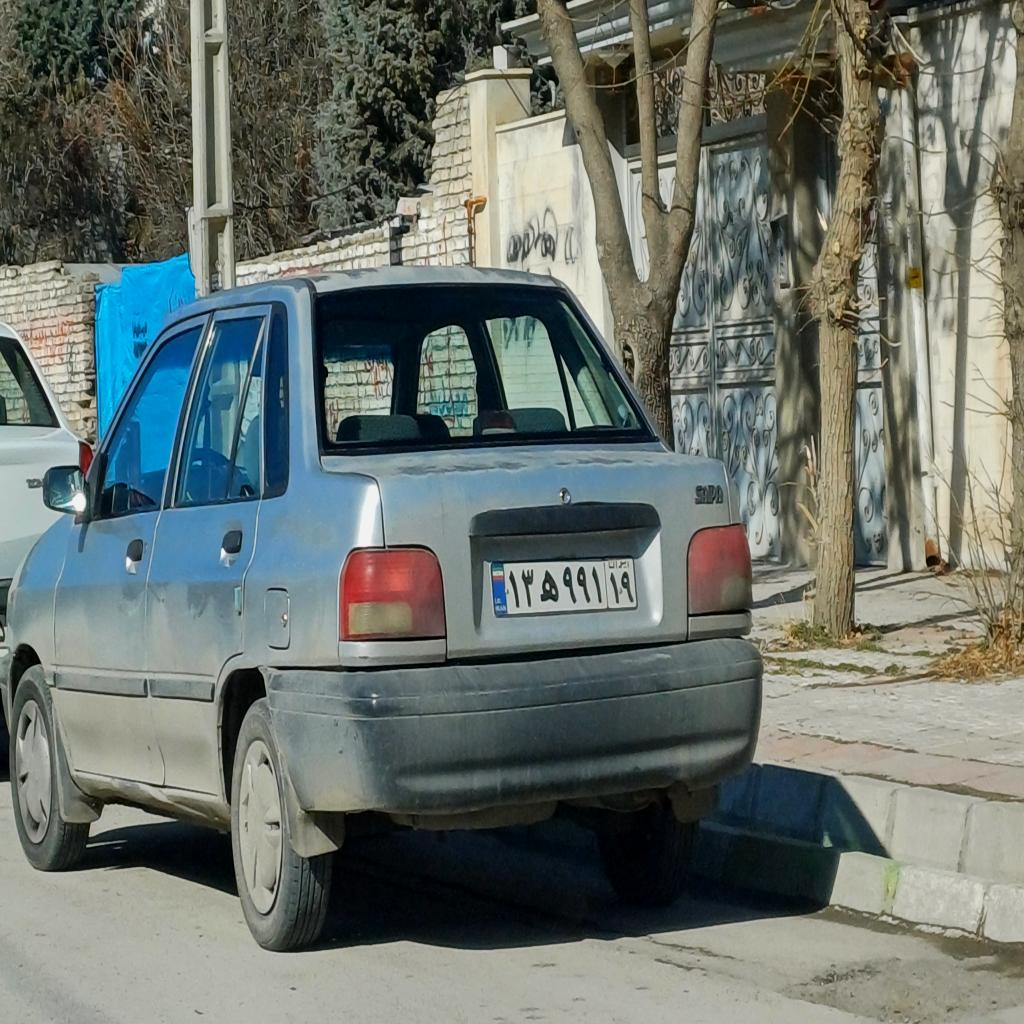Plates: (491, 556, 637, 610)
